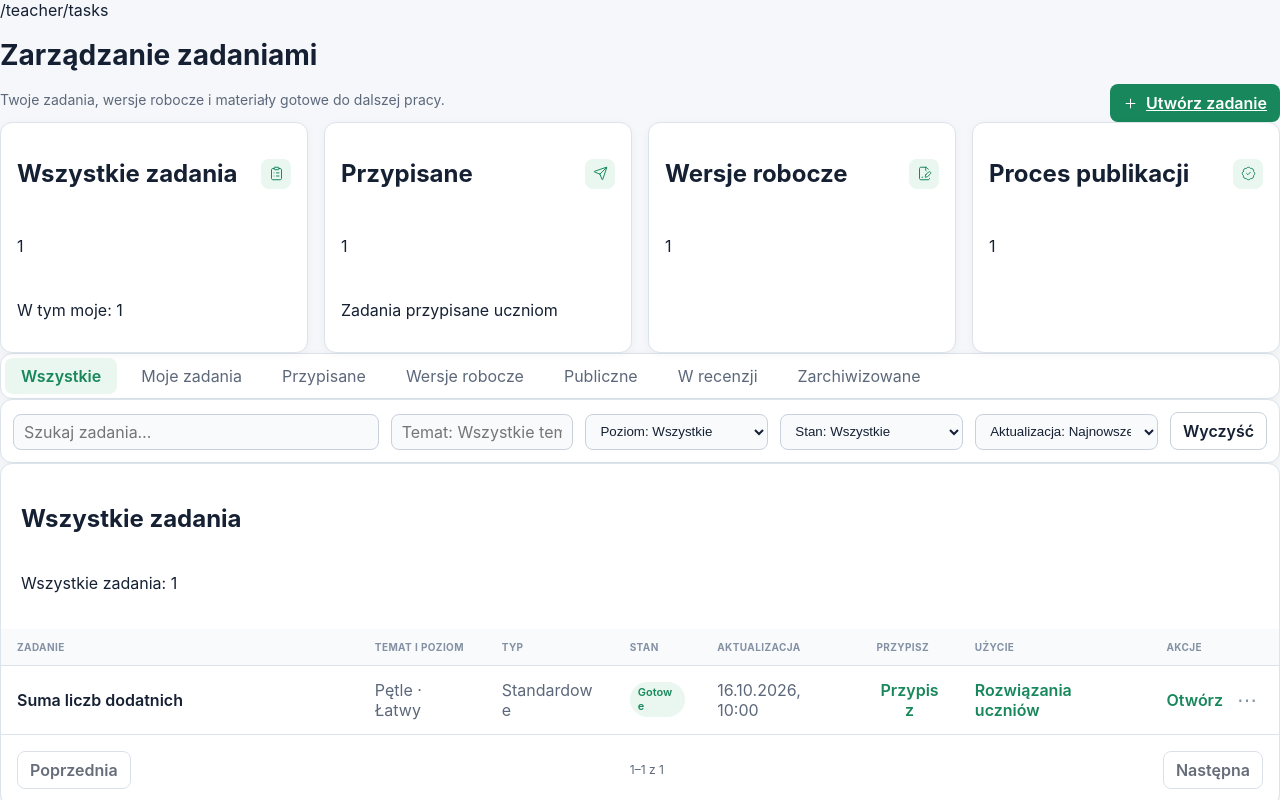
Test: opens assignments from the new column between update and usage
The image size is (1280, 800).
Click the button "Przypisz": (910, 700) [876,680,943,720]
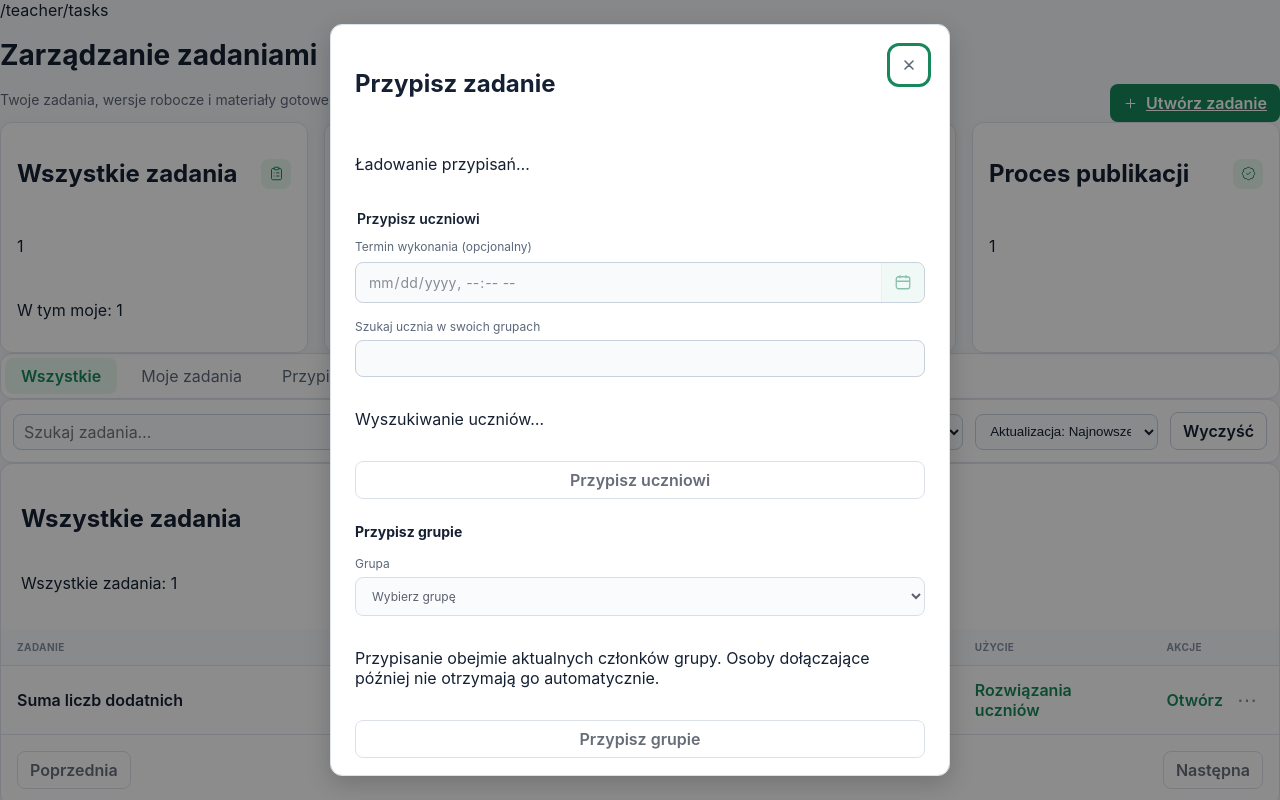
Check: the dialog "Przypisz zadanie" is shown, box [330,24,950,776]
Click the button named "Zamknij przypisywanie": (909, 65) [893,49,925,81]
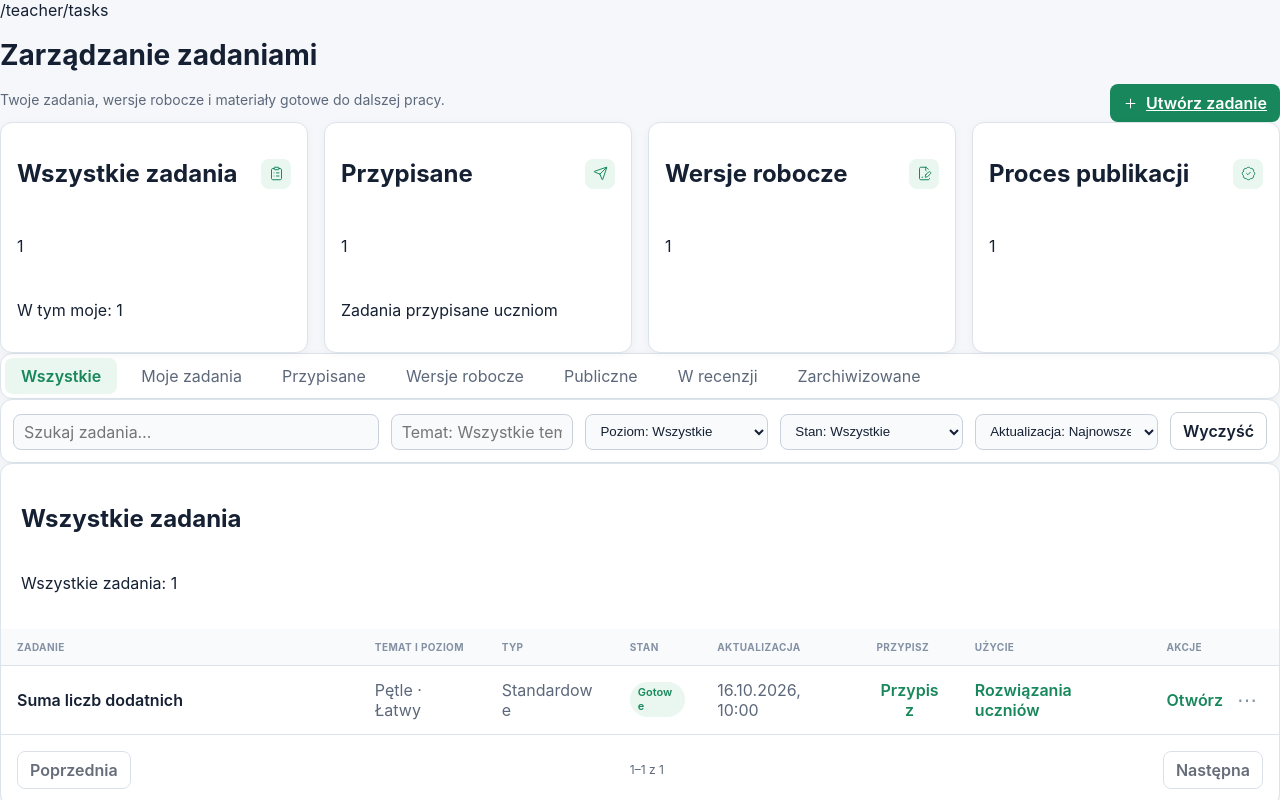
Check: the dialog is gone
